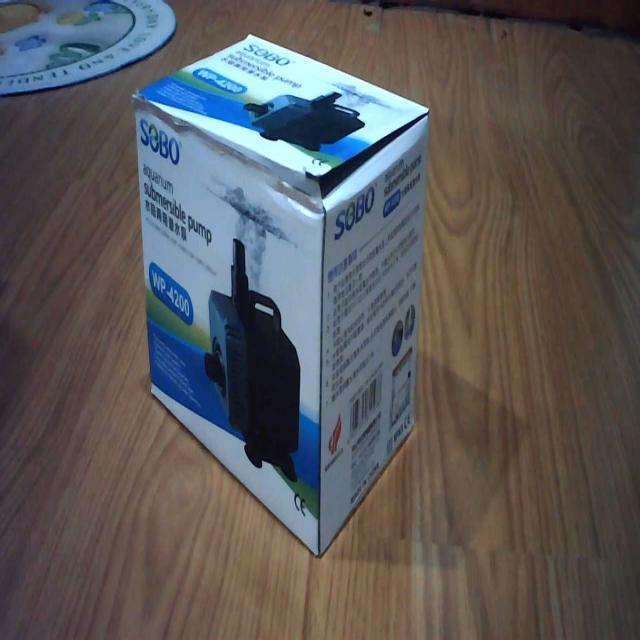SOBO_WP_4200: (128, 25, 434, 563)
